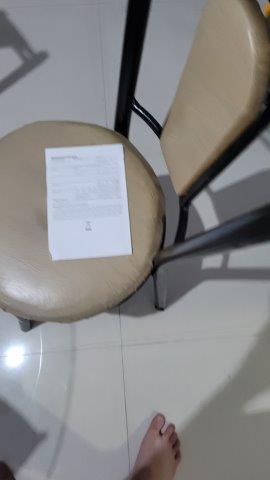kertas: (44, 144, 131, 257)
